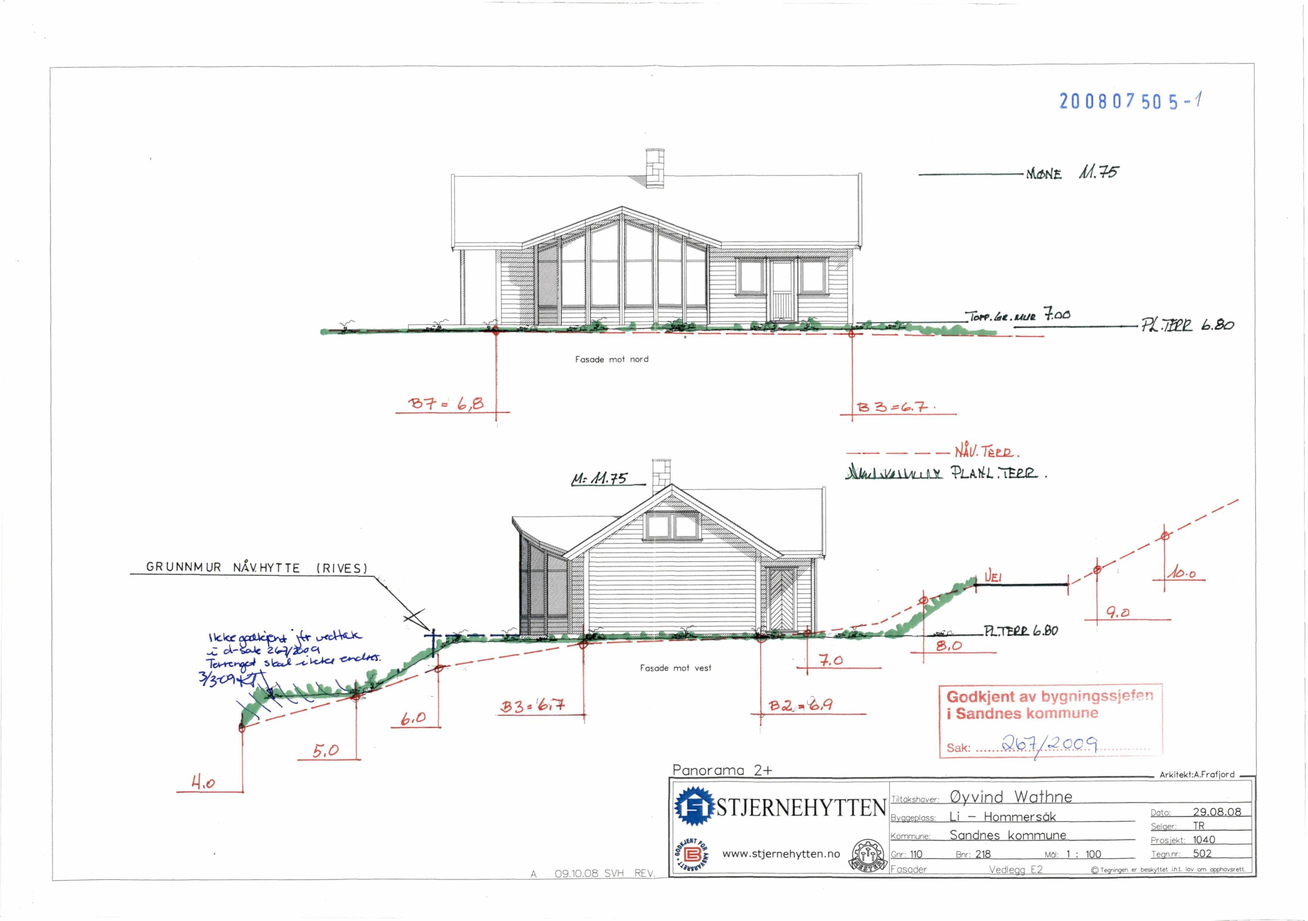fasade: (405, 147, 867, 340), (509, 458, 828, 646)
